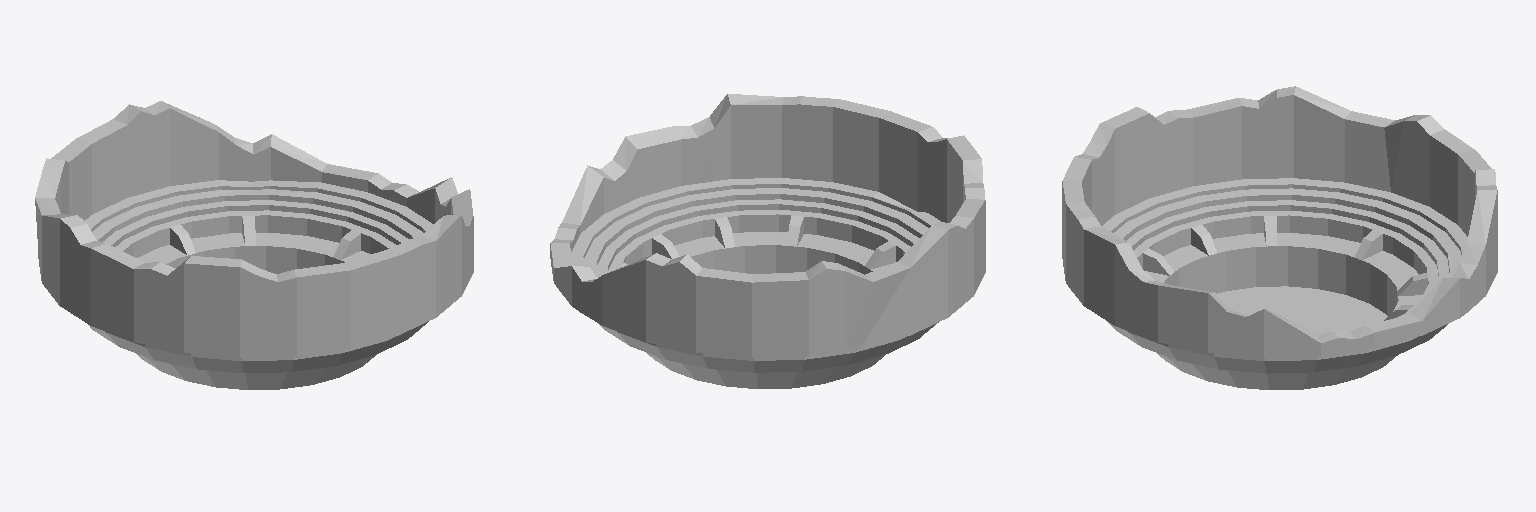
The model's file is arena.obj.
3 renders of one model, left to right at view 1: azimuth 30°, elevation 25°; view 2: azimuth 150°, elevation 25°; view 3: azimuth 270°, elevation 25°, orthographic.
Visible parts, largest first — view 1: Grid; view 2: Grid; view 3: Grid.
Boxes of the visible parts, <box> form: Grid: <box>35,101,473,389</box>; Grid: <box>550,94,985,388</box>; Grid: <box>1062,86,1497,389</box>.
Bounding box in the file's own units: 202 × 82.71 × 202.